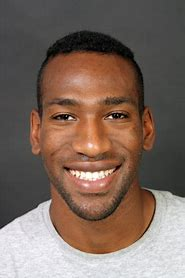person: (28, 30, 155, 225)
